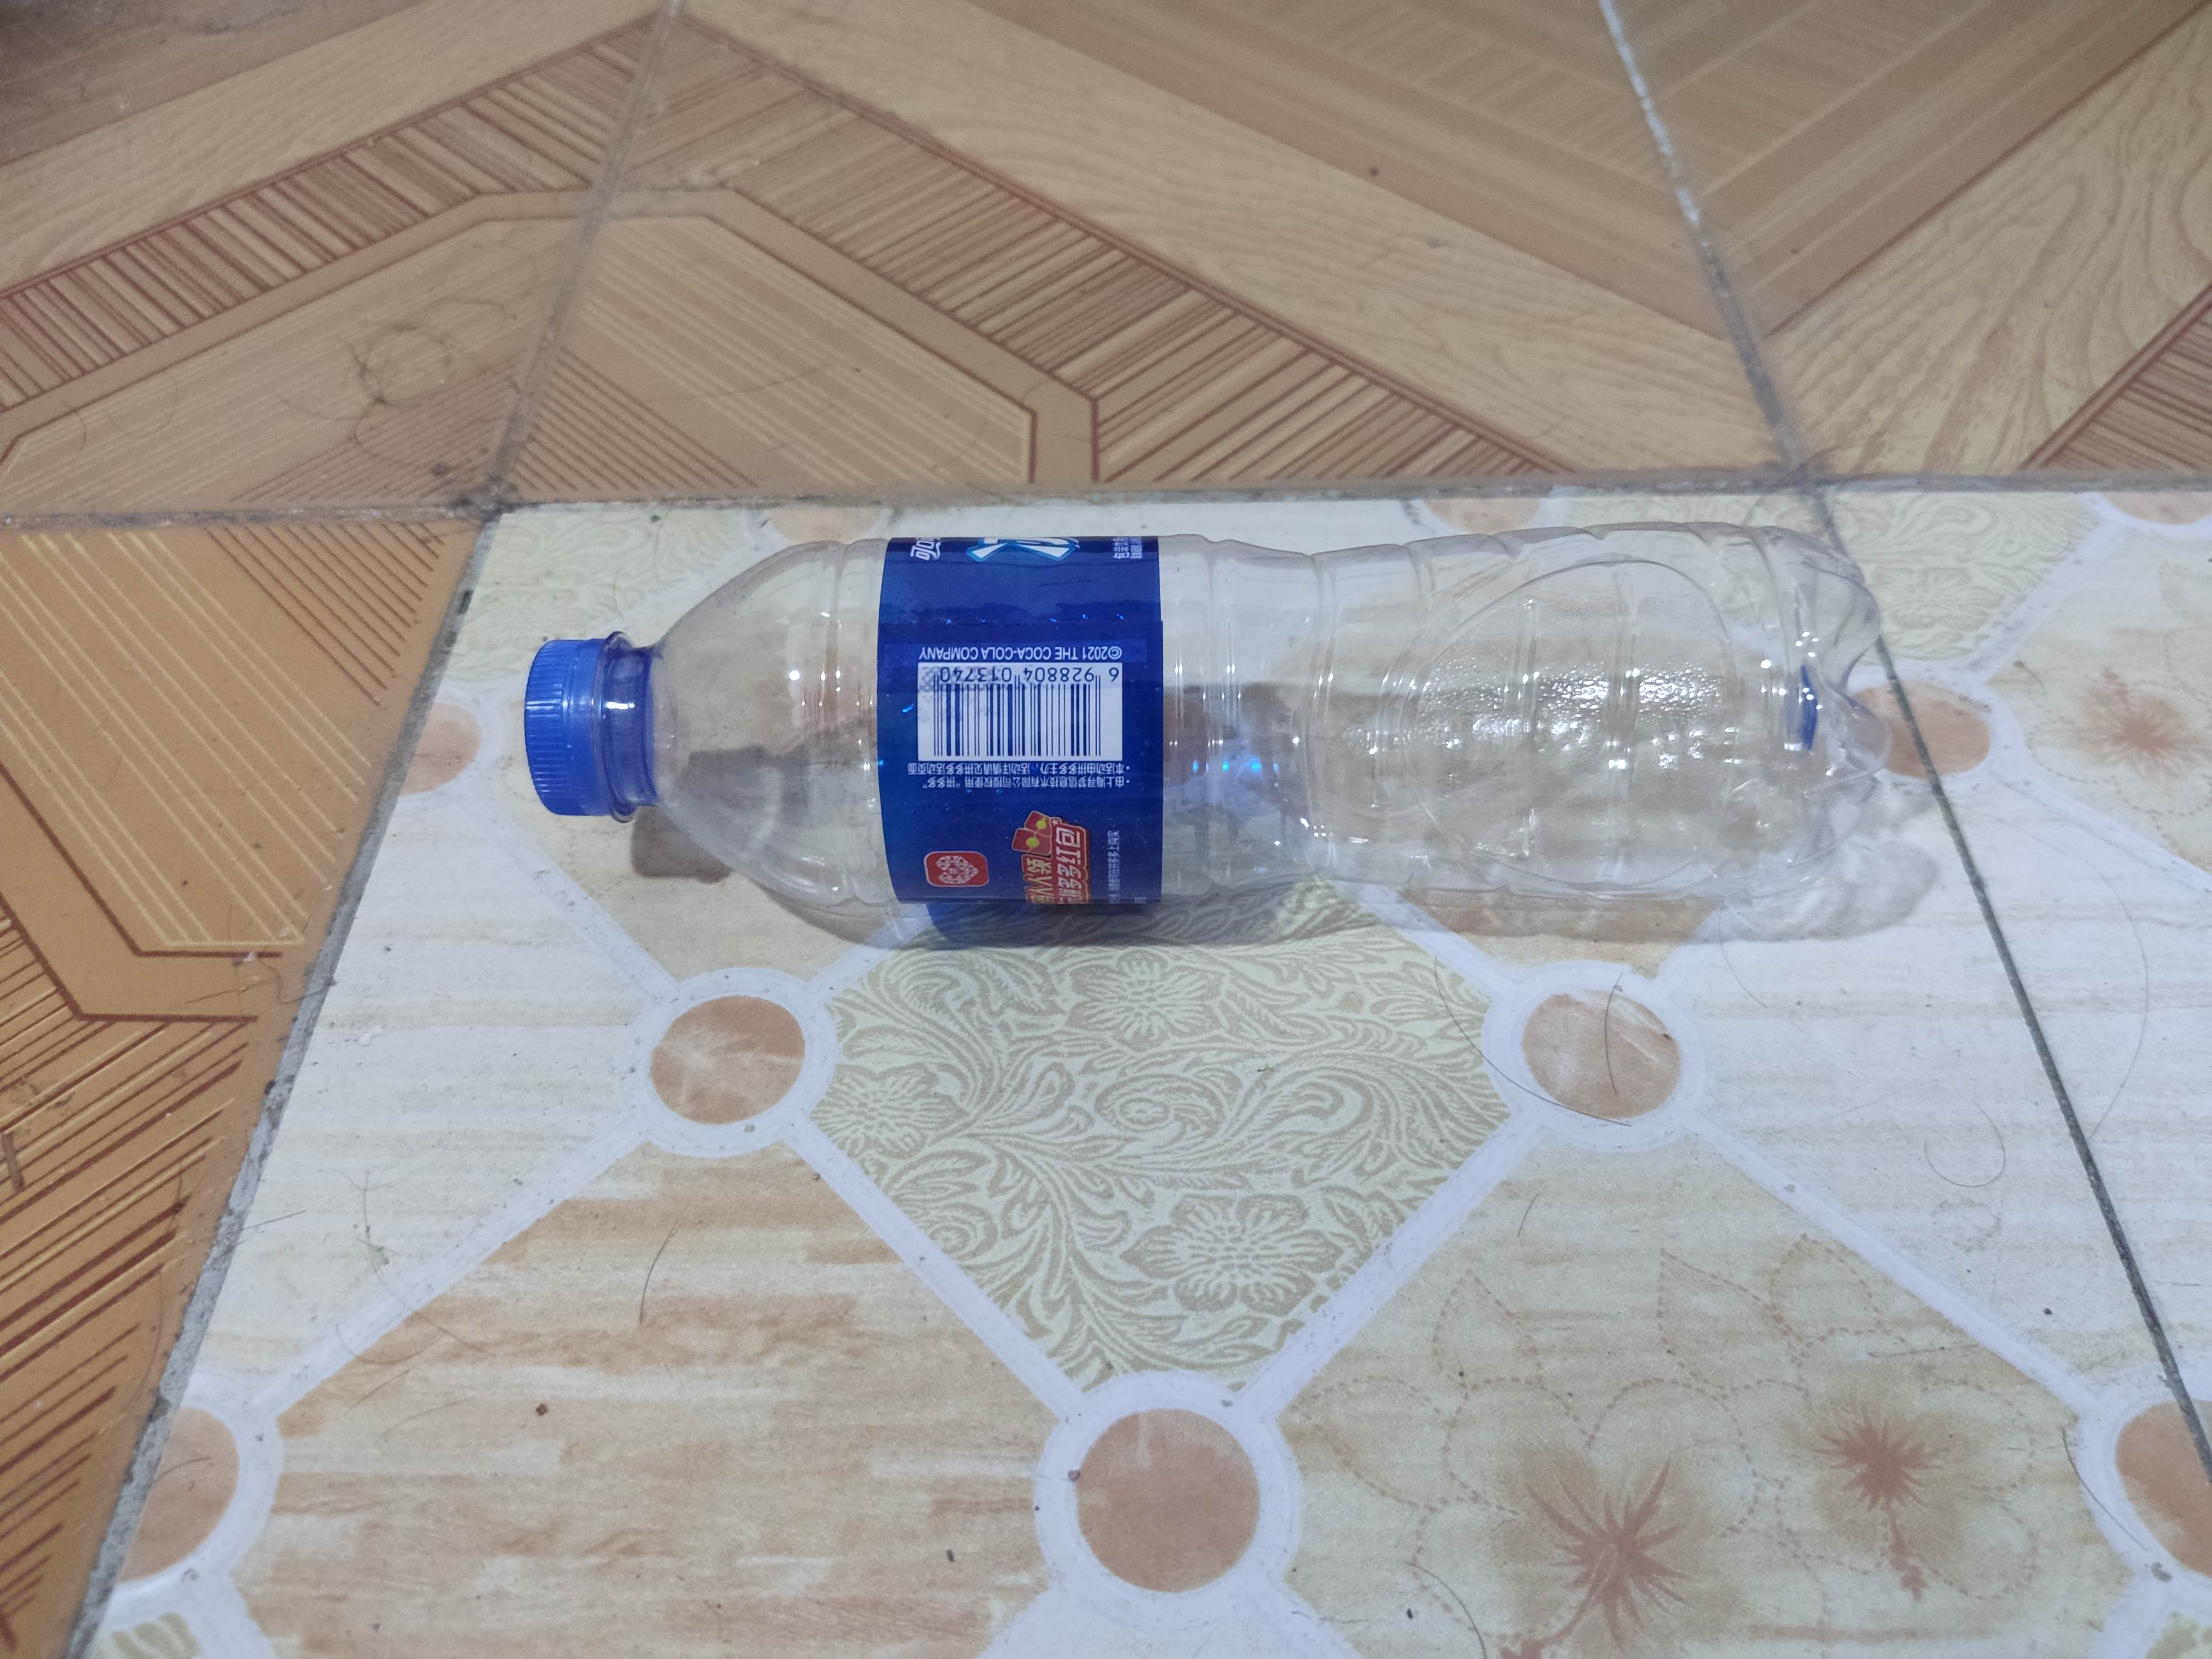Plastic Bottle: (516, 516, 1900, 945)
